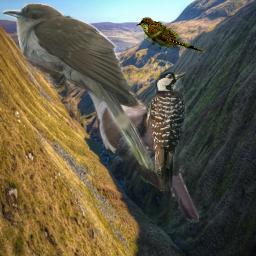Cuckoo: (3, 3, 154, 175), (67, 67, 199, 225), (136, 17, 205, 53)
Woodpecker: (135, 71, 191, 198)
